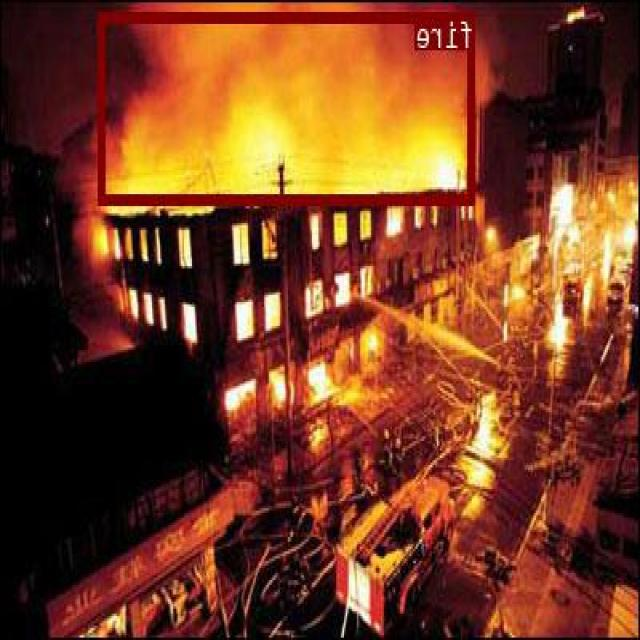fire: (100, 10, 476, 204)
